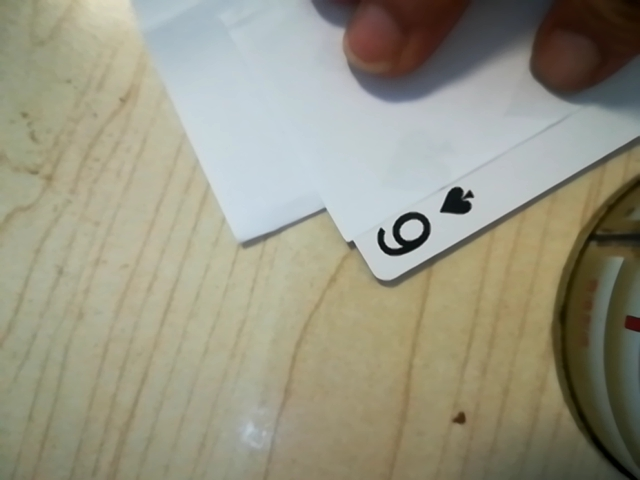ht 6: (361, 174, 490, 276)
